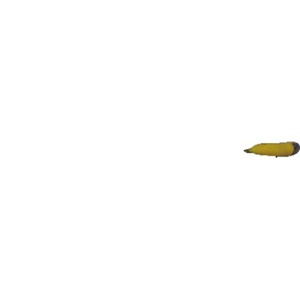banana: (243, 141, 299, 158)
